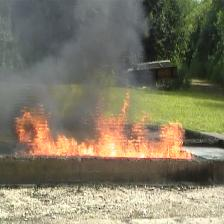fire: (24, 110, 188, 160)
smoke: (11, 0, 131, 94)
